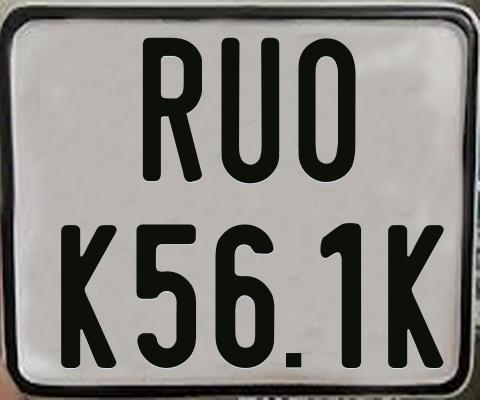0: (298, 35, 361, 185)
1: (320, 220, 366, 370)
5: (135, 221, 201, 371)
6: (213, 222, 276, 368)
K: (386, 223, 445, 371), (59, 223, 115, 368)
R: (142, 38, 203, 188)
U: (221, 36, 280, 187)
